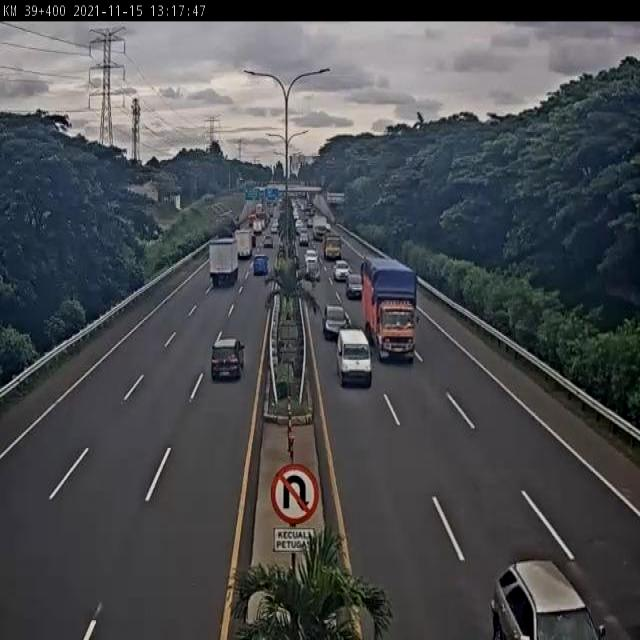Car: (210, 337, 247, 382), (322, 303, 347, 339), (333, 258, 351, 284)
Truck: (360, 257, 422, 365), (206, 236, 238, 286), (321, 232, 344, 262), (234, 228, 253, 260)
Van: (335, 329, 373, 389)
